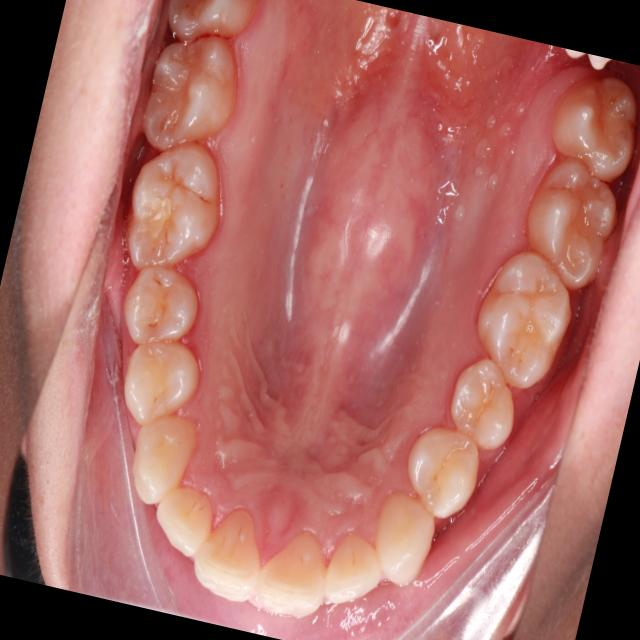tooth: (109, 119, 247, 291), (458, 240, 586, 407), (503, 143, 633, 305), (131, 19, 261, 173), (107, 248, 221, 375), (351, 476, 454, 606), (389, 409, 497, 527), (109, 320, 216, 439), (184, 491, 281, 618), (239, 520, 346, 634), (544, 58, 640, 185), (117, 401, 210, 530), (436, 344, 531, 470), (136, 468, 232, 582), (308, 511, 397, 617), (153, 0, 275, 69)
